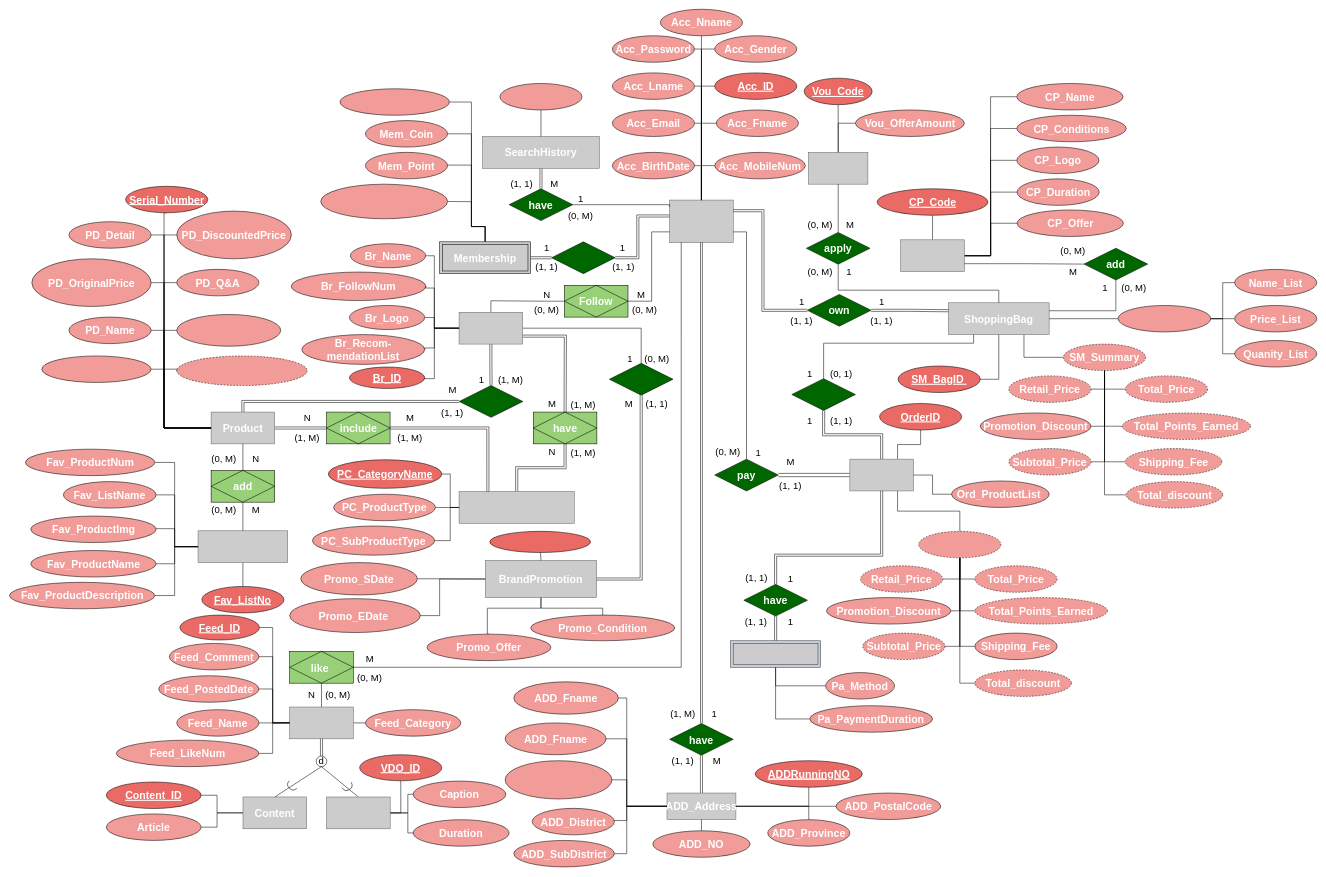
Image size: 1326x877. Some labels were removed from this diagram. Here are the shapes that lost their labels. From the top down, the box of each, then its label:
(339, 88, 449, 115): Mem_CouponsList
(499, 83, 582, 110): Keyword
(808, 152, 868, 184): Voucher
(320, 184, 448, 219): Mem_CardName
(669, 200, 733, 242): Account
(551, 241, 615, 274): register
(900, 239, 964, 272): Coupon
(176, 314, 281, 346): PD_HowToU se
(459, 312, 523, 344): Brand
(1118, 305, 1211, 332): SB_ProductList
(41, 355, 151, 382): PD_Reviews
(176, 355, 307, 386): PD_Stock
(609, 363, 673, 395): create
(459, 385, 523, 417): sell
(791, 378, 855, 410): transfer
(849, 459, 913, 491): Pa_Order
(459, 491, 574, 523): ProductCategory
(198, 530, 288, 563): FavoriteList
(489, 531, 591, 553): Promo_ID
(918, 531, 1001, 558): Ord_Summary
(730, 640, 821, 667): Pa_Payment
(289, 706, 353, 739): Ad_Feed
(505, 760, 612, 799): ADD_MobileNum
(326, 796, 390, 829): VDO
